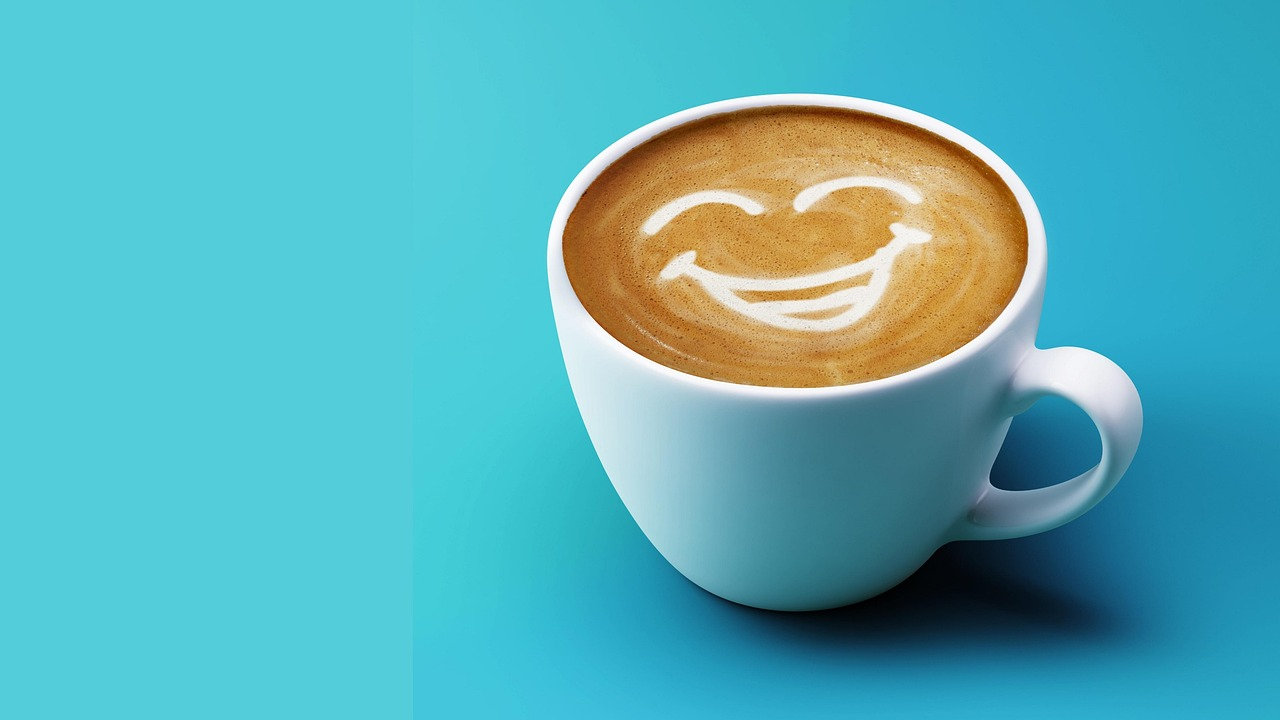mug: (409, 53, 1257, 696)
